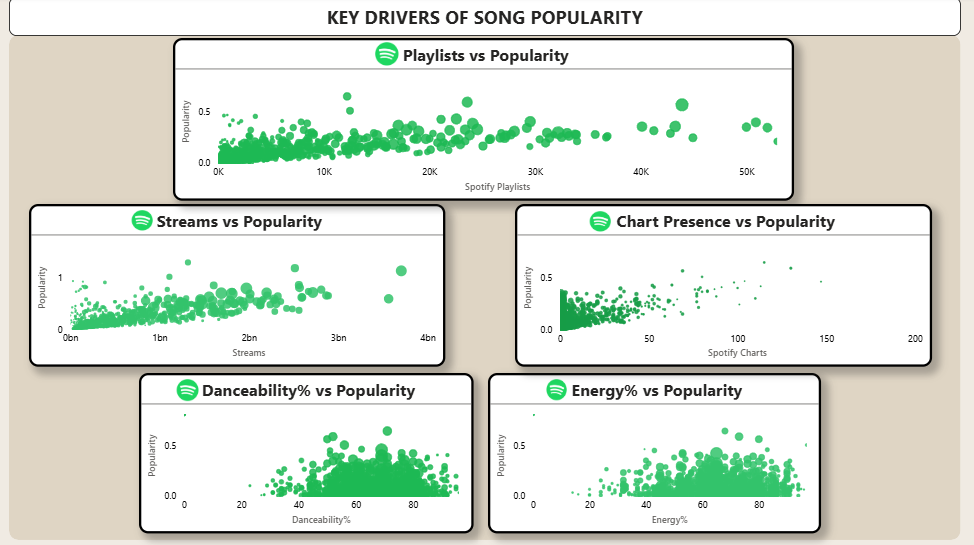

The dashboard page shown, as its layout file describes it:
{"tool":"powerbi","page":{"name":"Drivers of Popularity","canvas":[1280,720],"ordinal":1},"visuals":[{"type":"shape","box":[15.8,50.4,1245.6,661],"z":0},{"type":"scatterChart","title":"Playlists vs Popularity","fields":{"X":["Merged Data.in_spotify_playlists"],"Y":["FINAL DATASET.popularity_score"],"Size":["Sum(Merged Data.streams)"]},"box":[230.4,53.3,812.9,212.9],"z":1000,"group":"g4"},{"type":"group","id":"g1","title":"Group 1","box":[642.2,492.5,436.3,210.2],"z":1000},{"type":"scatterChart","title":"Chart Presence vs Popularity","fields":{"Y":["FINAL DATASET.popularity_score"],"Size":["Sum(Merged Data.streams)"],"X":["Merged Data.in_spotify_charts"]},"box":[678.2,271.1,545.8,213.1],"z":2000,"group":"g6"},{"type":"group","id":"g2","title":"Group 2","box":[41.8,271.2,545,213],"z":2000},{"type":"group","id":"g3","title":"Group 4","box":[185.7,491.9,437.8,210.2],"z":3000},{"type":"scatterChart","title":"Danceability% vs Popularity","fields":{"Y":["FINAL DATASET.popularity_score"],"Size":["Sum(Merged Data.streams)"],"X":["Merged Data.danceability_%"]},"box":[185.7,491.9,437.8,210.2],"z":3000,"group":"g3"},{"type":"group","id":"g4","title":"Group 5","box":[230.4,53.3,812.9,212.9],"z":4000},{"type":"image","box":[494.7,59,31.4,31.4],"z":4000,"group":"g4"},{"type":"scatterChart","title":"Energy% vs Popularity","fields":{"Size":["Sum(Merged Data.streams)"],"X":["Merged Data.energy_%"],"Y":["FINAL DATASET.popularity_score"]},"box":[642.2,492.5,436.3,210.2],"z":4000,"group":"g1"},{"type":"group","id":"g5","title":"Group 3","box":[678.2,271.1,545.8,213.1],"z":5000},{"type":"scatterChart","title":"Streams vs Popularity","fields":{"X":["Merged Data.streams"],"Y":["FINAL DATASET.popularity_score"],"Size":["Sum(Merged Data.in_spotify_playlists)"]},"box":[41.8,271.2,545,213],"z":5000,"group":"g2"},{"type":"image","box":[233.2,499.1,33.1,28.8],"z":5000,"group":"g3"},{"type":"group","id":"g6","title":"Group 6","box":[678.2,271.1,545.8,213.1],"z":5501,"group":"g5"},{"type":"textbox","box":[15.1,0,1245.6,50.9],"z":6000},{"type":"image","box":[770.4,279.7,40.3,27.4],"z":9000,"group":"g6"},{"type":"image","box":[174.3,278.4,31.7,27.4],"z":11000,"group":"g2"},{"type":"image","box":[716.1,500.4,32.8,27.6],"z":12500,"group":"g1"}]}

Visuals, with their boxes in screenshot pixels (x1, y1, x2, y2), scaled from the page's 1280x720 canvas onto the 974x545 screenshot:
shape: 12:38:960:538
"Playlists vs Popularity" scatterChart: 175:40:794:201
"Group 1" group: 489:373:821:532
"Chart Presence vs Popularity" scatterChart: 516:205:931:367
"Group 2" group: 32:205:447:367
"Group 4" group: 141:372:474:531
"Danceability% vs Popularity" scatterChart: 141:372:474:531
"Group 5" group: 175:40:794:201
image: 376:45:400:68
"Energy% vs Popularity" scatterChart: 489:373:821:532
"Group 3" group: 516:205:931:367
"Streams vs Popularity" scatterChart: 32:205:447:367
image: 177:378:203:400
"Group 6" group: 516:205:931:367
textbox: 11:0:959:39
image: 586:212:617:232
image: 133:211:157:231
image: 545:379:570:400
